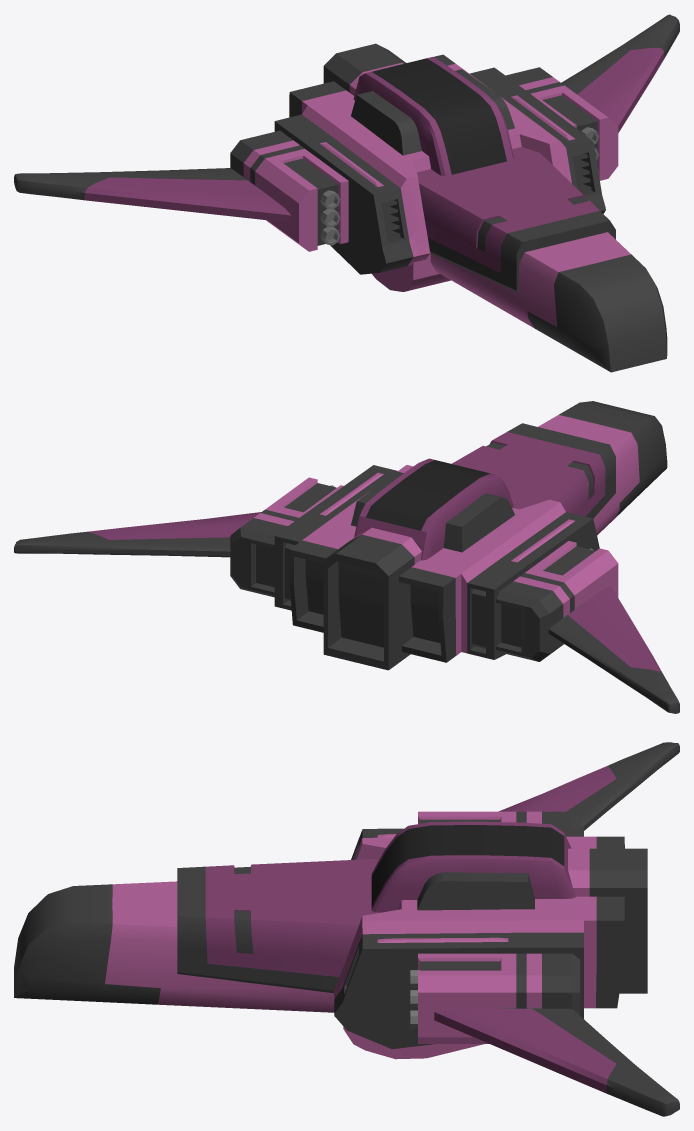
File: Spaceship 2.compressed.glb
3 views of the same model, one above another, from view 1: azimuth 30°, elevation 25°; view 2: azimuth 150°, elevation 25°; view 3: azimuth 270°, elevation 25° (orthographic). The views are drawn at different scales.
Visible parts, largest first — view 1: Spaceship_FernandoTheFlamingo; view 2: Spaceship_FernandoTheFlamingo; view 3: Spaceship_FernandoTheFlamingo.
Part boxes in pixels (x1,y1,x2,y2): Spaceship_FernandoTheFlamingo: (14, 14, 679, 372); Spaceship_FernandoTheFlamingo: (14, 401, 679, 713); Spaceship_FernandoTheFlamingo: (14, 742, 679, 1116).
Bounding box in the file's own units: 11.14 × 2.52 × 8.66.
1 material, 1 textured.
